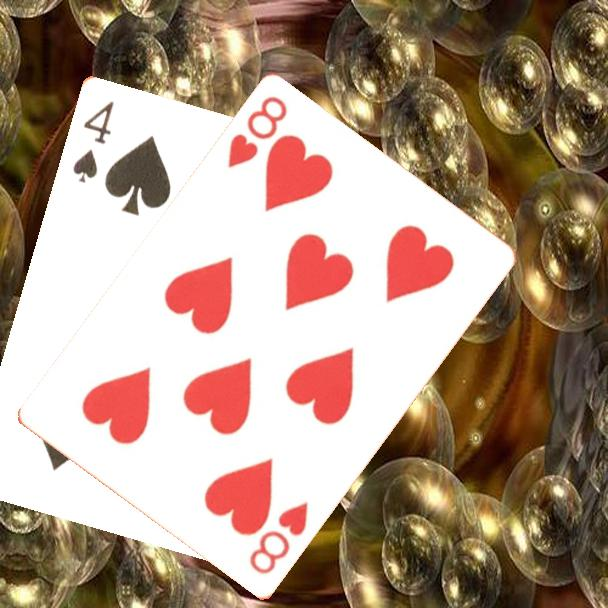h08: (245, 499, 312, 578), (224, 93, 291, 172)
s04: (69, 97, 117, 186)
